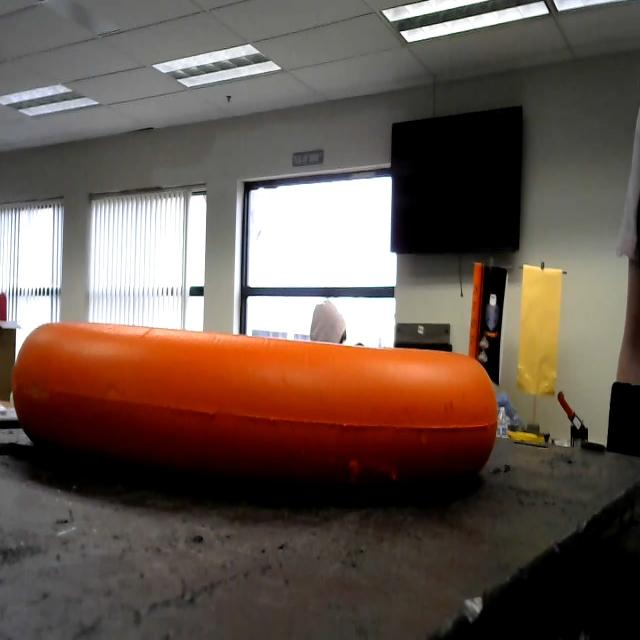note: (22, 306, 500, 526)
